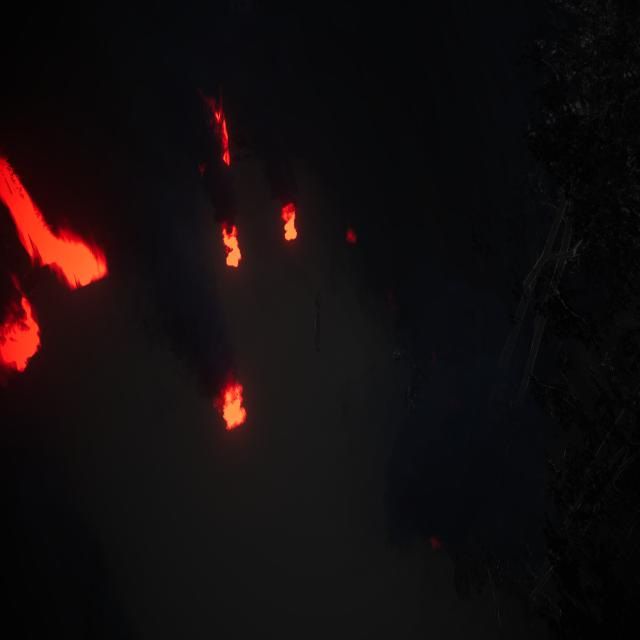Human: (305, 295, 326, 361)
